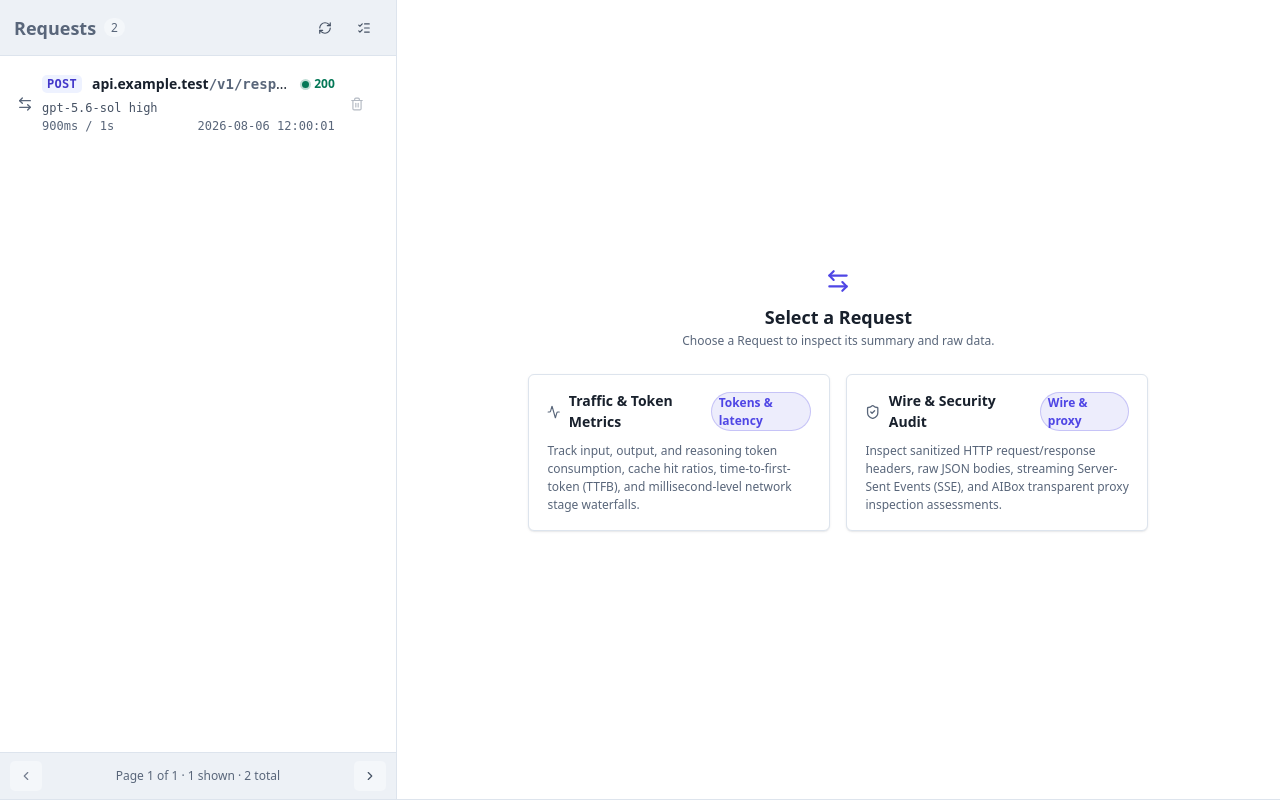
Requests page selection and deletion › returns to the first page after deleting a selection across pages
Click the button named "Select Requests": (364, 28) [346,10,382,46]
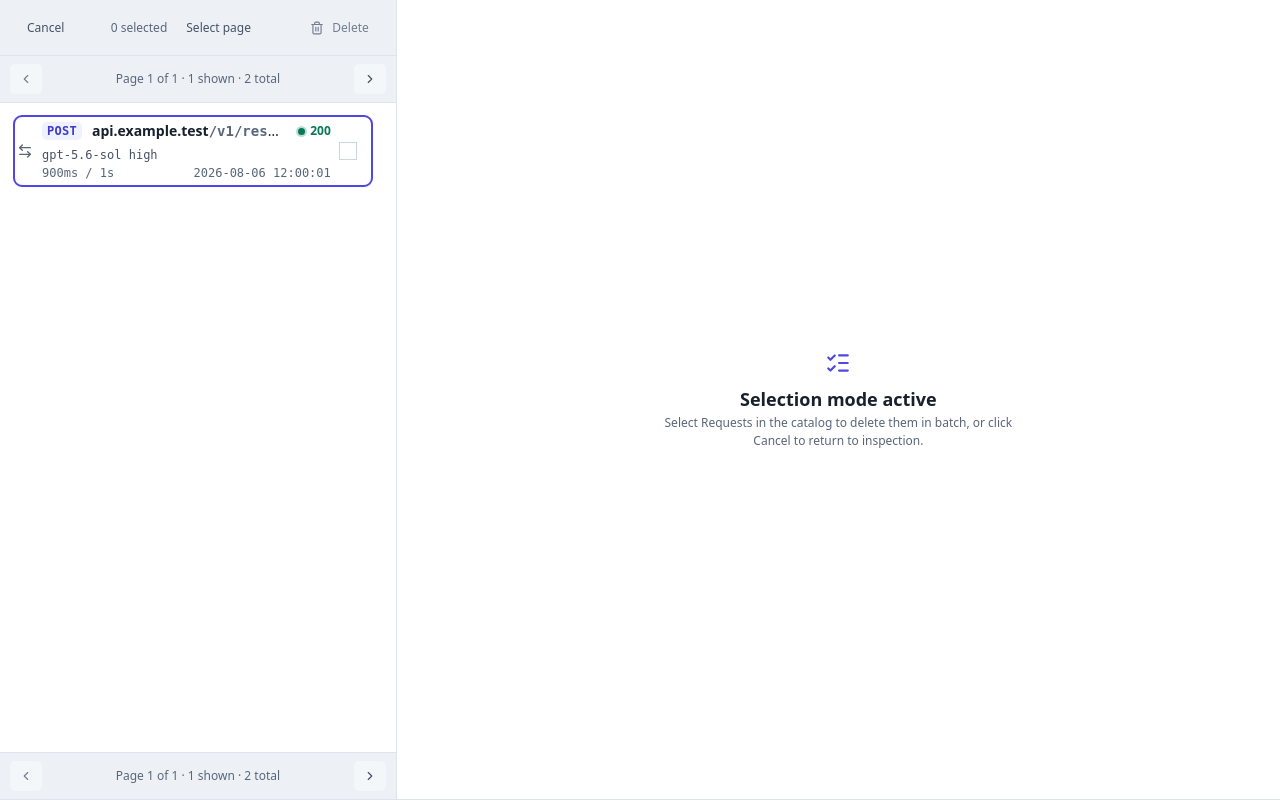
Click the button with aria-label "Select POST api.example.test/v1/responses": (62, 131) [17,119,369,183]
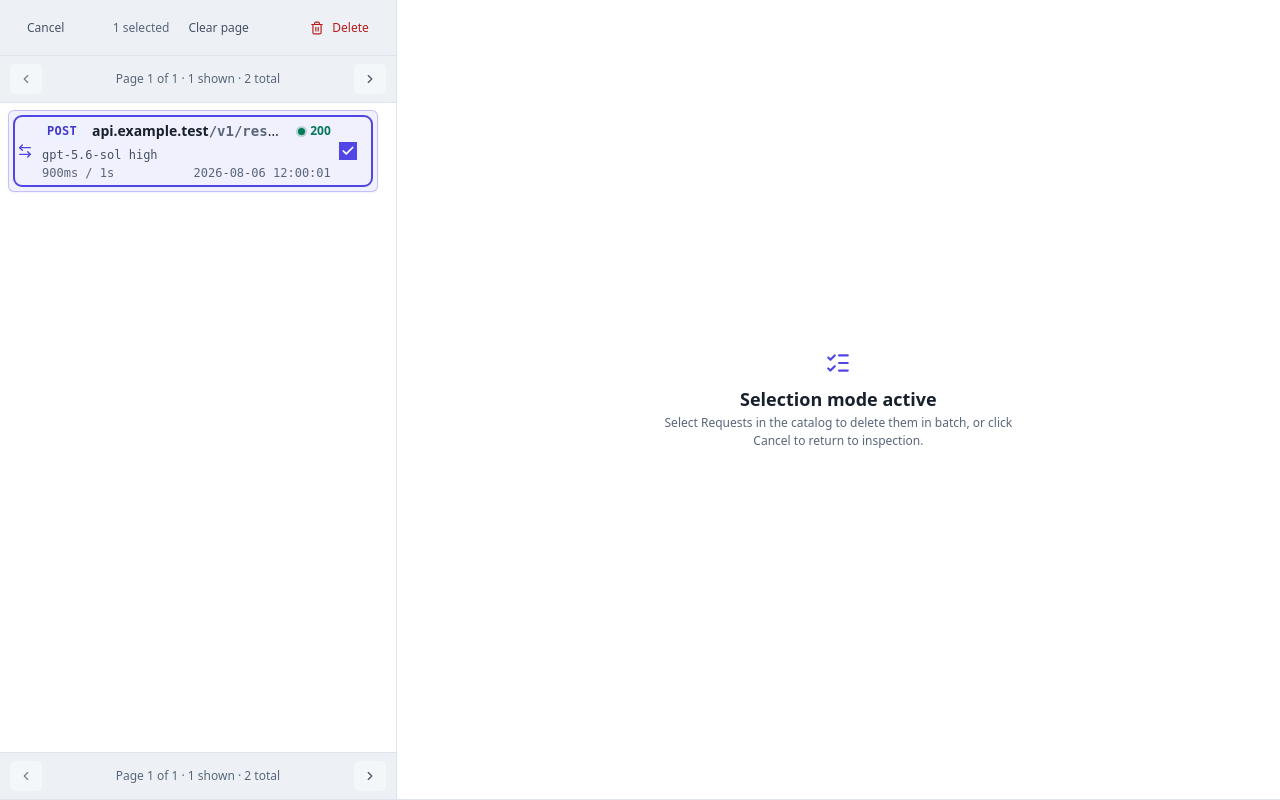
Click the button named "Next" below "selected": (370, 79) [354,64,386,94]
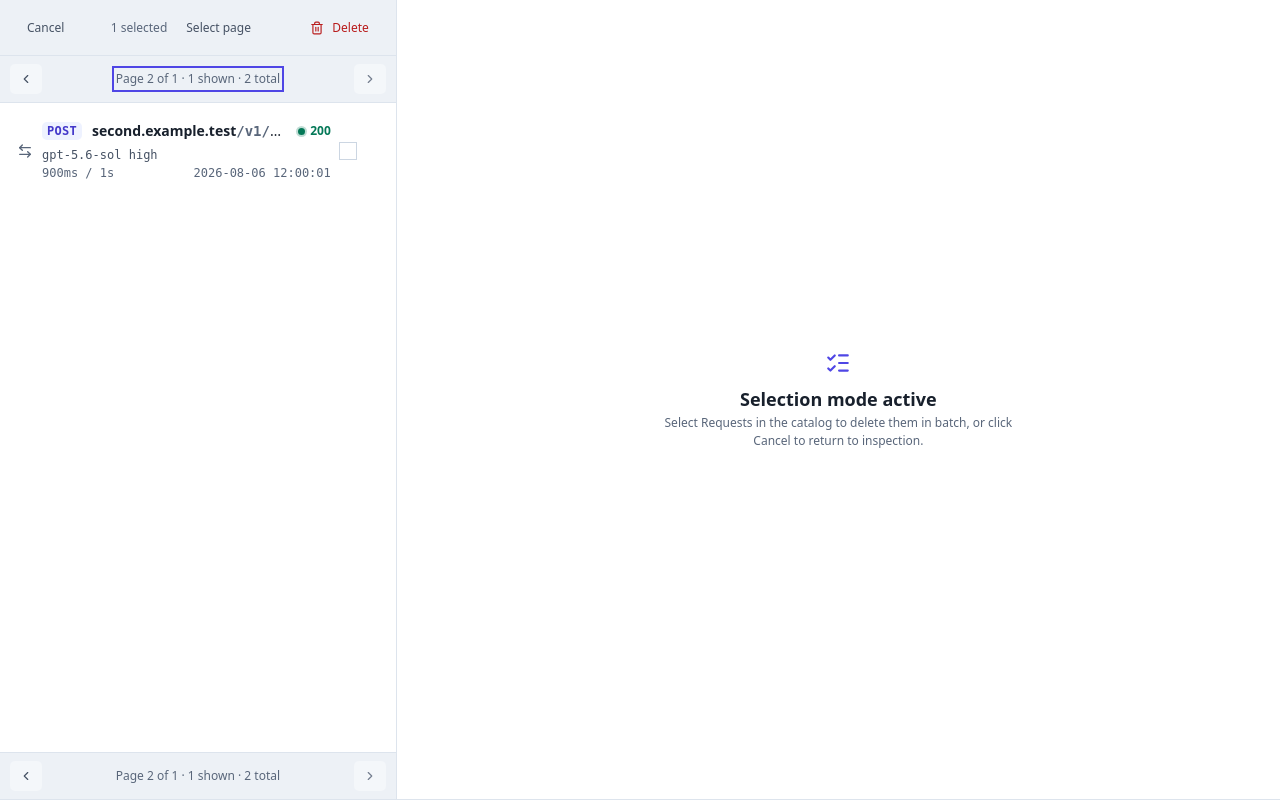
Click the button with aria-label "Select POST second.example.test/v1/responses": (62, 131) [17,119,369,183]
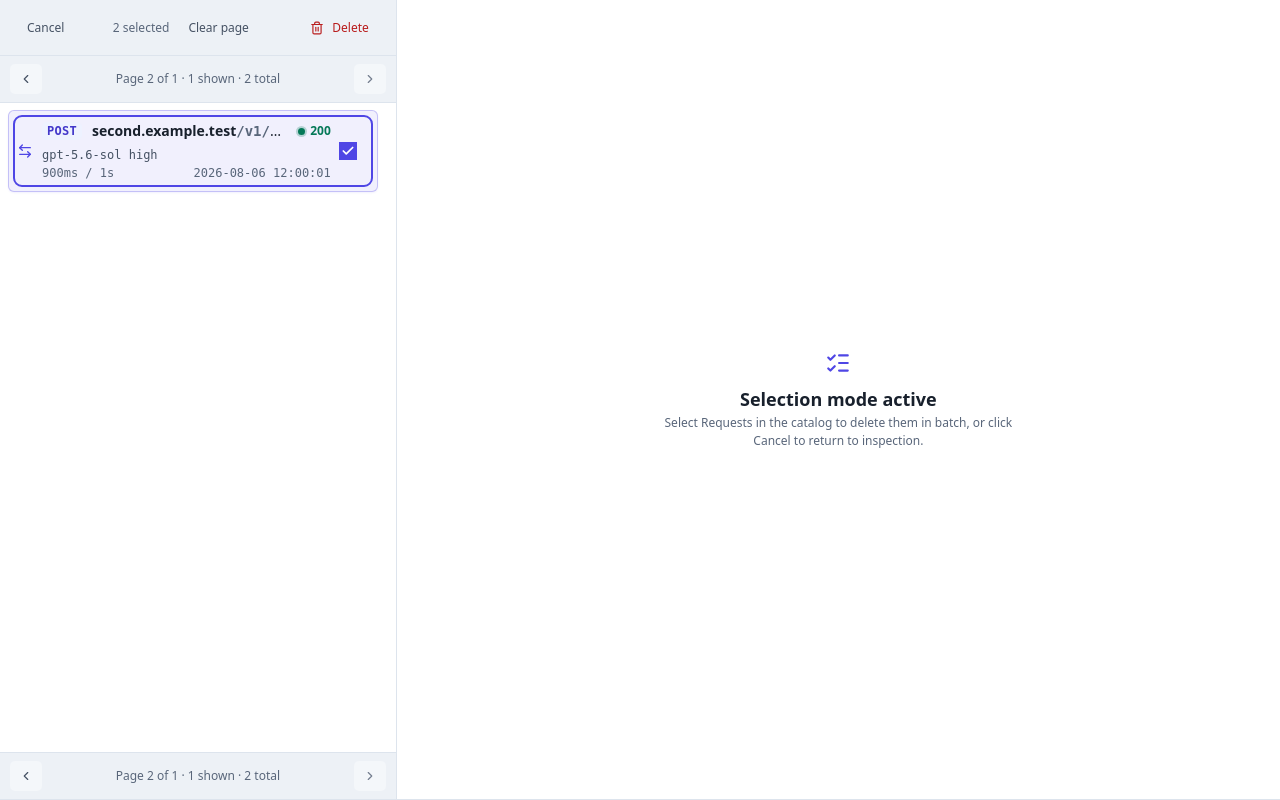
Click the button with aria-label "Delete selected": (340, 28) [297,10,382,46]
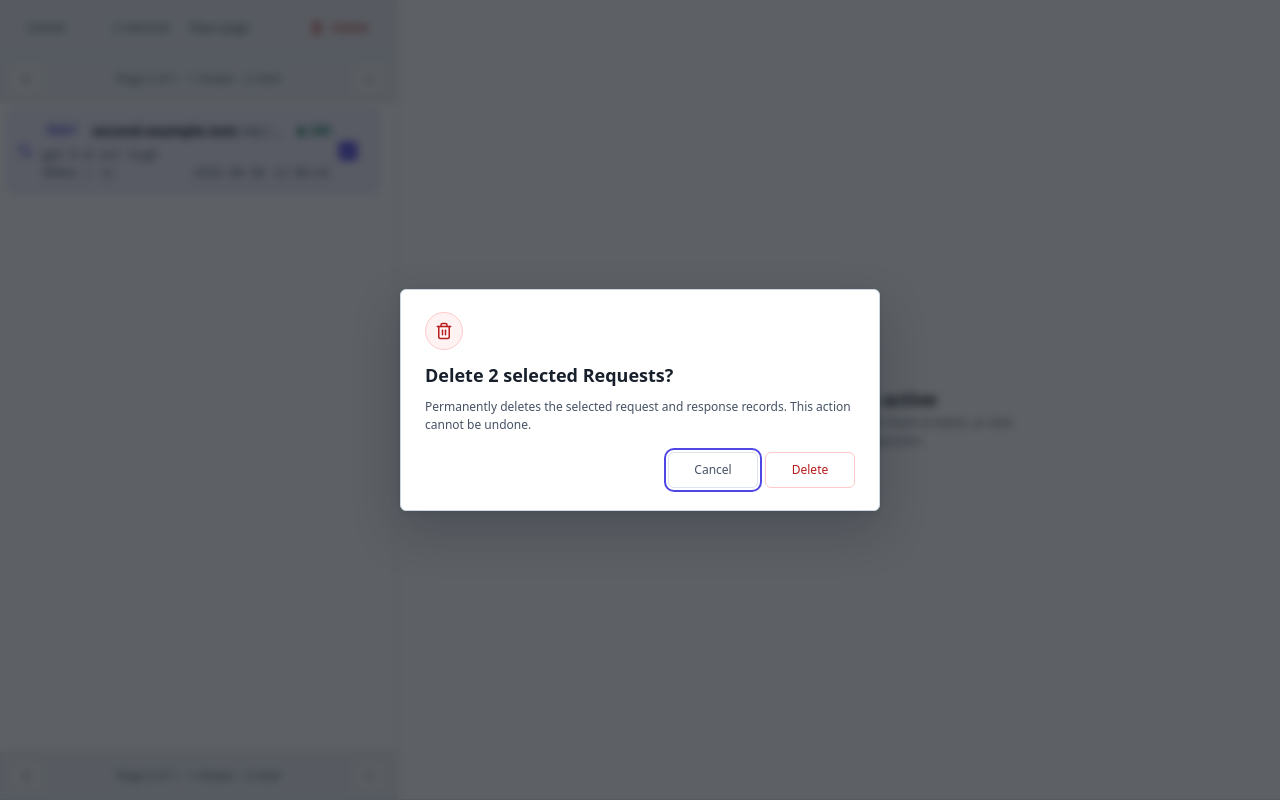
Click the button "Delete": (810, 470) [765,452,855,488]
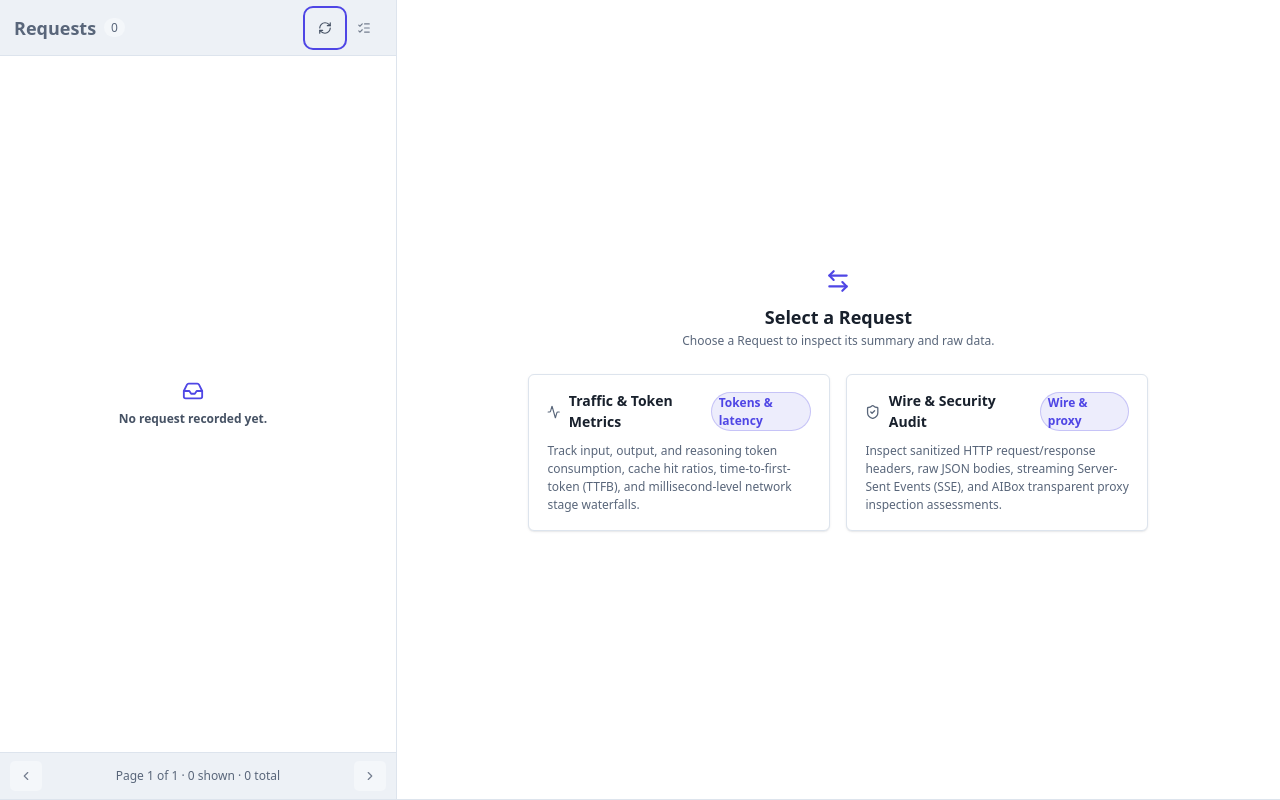
Check: the text "Page 1 of 1 · 0 shown · 0 total" is shown, box [116,767,280,785]
Check: the text "No request recorded yet." is shown, box [119,410,267,428]
